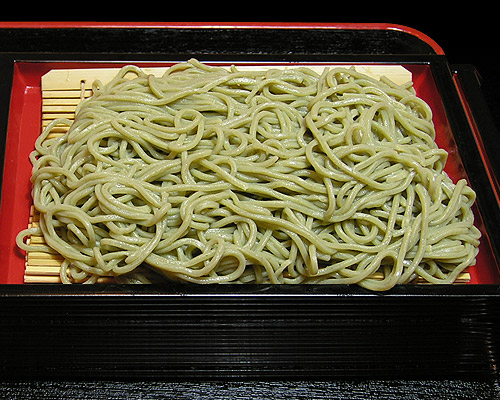Soba: (30, 61, 486, 290)
